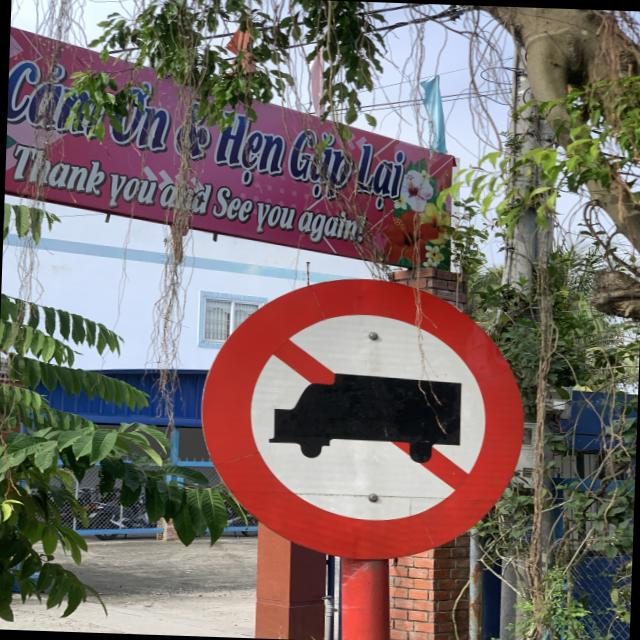Cam_Xe_Tai: (189, 268, 532, 566)
